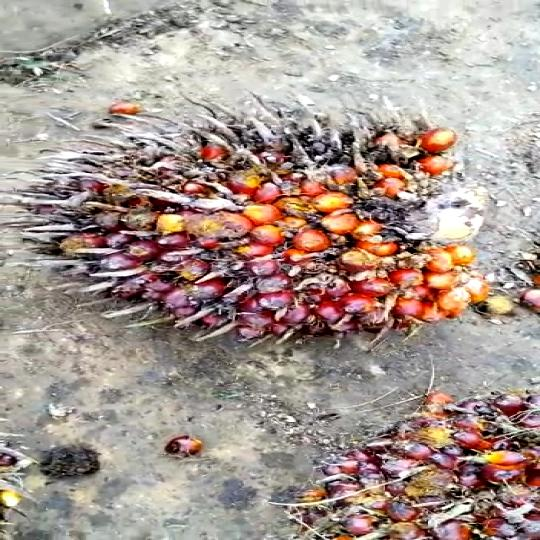masak: (38, 116, 518, 362)
